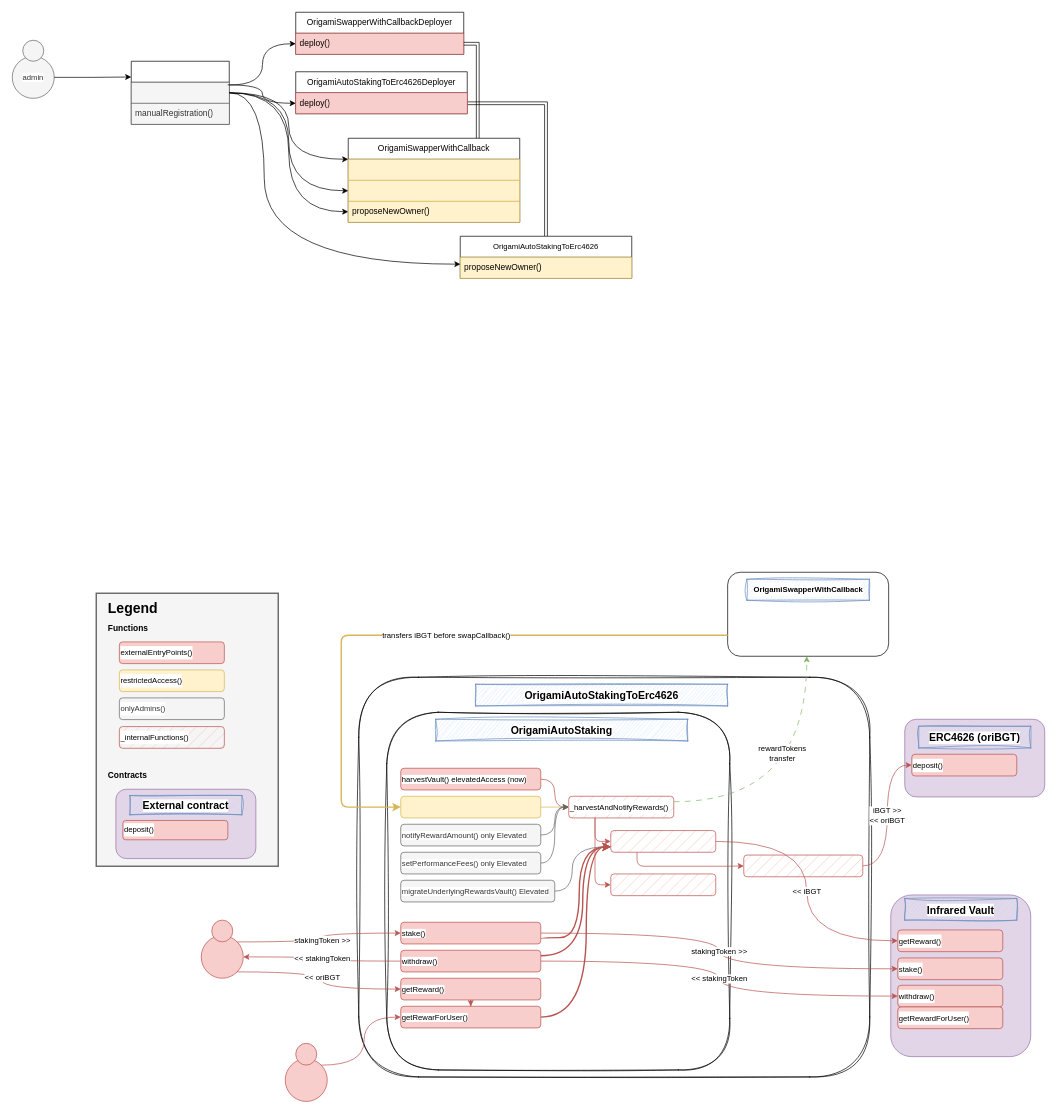
Image size: 1057x1114. Some labels were removed from this diagram. The shapes that lost their labels are listed below. From the top down, each one's box as (x1, y1, x2, y2) in pixels, then its label:
(131, 61, 229, 124): AutoStakingFactory
(131, 82, 229, 103): registerVault()
(348, 159, 520, 180): setExplicitAccess()
(348, 180, 520, 201): whitelistRouter()
(727, 572, 889, 656): rewardTokens >>swap>> iBGT
(400, 796, 541, 818): swapCallback() only swapper
(610, 830, 716, 852): _claimAndProcessRewards()
(610, 873, 716, 896): _notifyRewardAmount()
(743, 854, 863, 877): _postProcessClaimedRewards()
(201, 935, 243, 978): bob
(285, 1058, 327, 1101): alice
